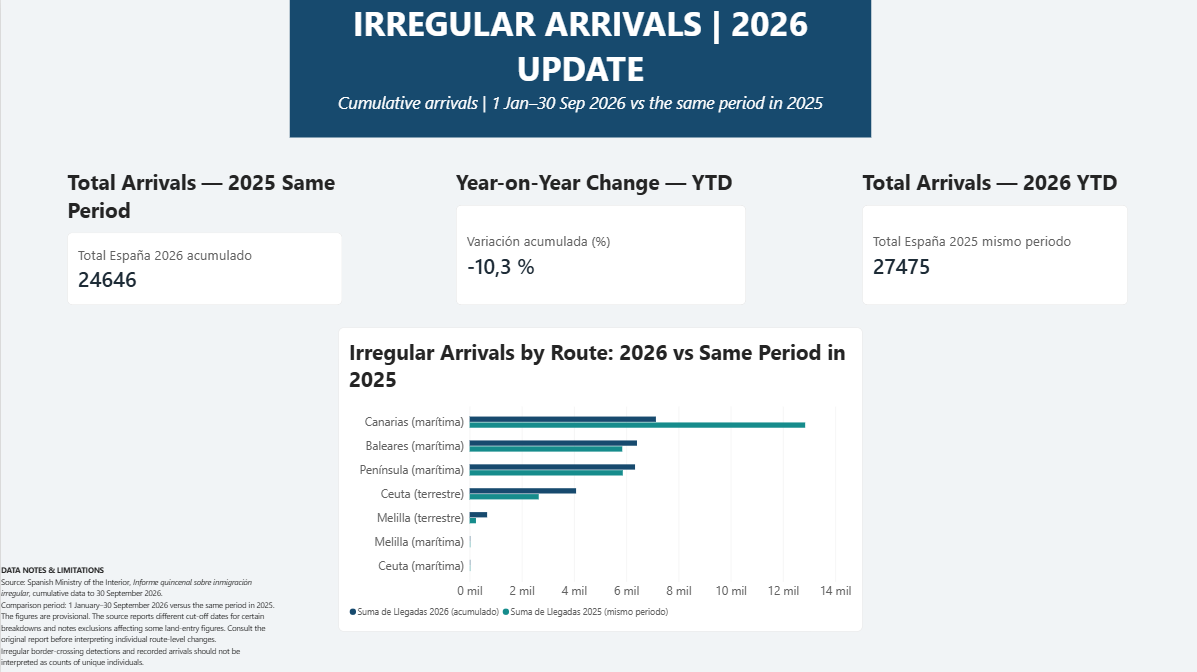

What the dashboard file says about the page in this screenshot:
{"tool":"powerbi","page":{"name":"2026 Update ","canvas":[1920,1080],"ordinal":1},"visuals":[{"type":"cardVisual","title":"Total Arrivals — 2026 YTD","fields":{"Data":["Interior_Irregular_2026.Total España 2025 mismo periodo"]},"box":[1378,268,425,220],"z":0},{"type":"cardVisual","title":"Total Arrivals — 2025 Same Period","fields":{"Data":["Interior_Irregular_2026.Total España 2026 acumulado"]},"box":[106,268,440,220],"z":1000},{"type":"cardVisual","title":"Year-on-Year Change — YTD","fields":{"Data":["Interior_Irregular_2026.Variación acumulada (%)"]},"box":[728,268,464,220],"z":2000},{"type":"clusteredBarChart","title":"Irregular Arrivals by Route: 2026 vs Same Period in 2025","fields":{"Category":["Interior_Irregular_2026.Ámbito / ruta"],"Y":["Sum(Interior_Irregular_2026.Llegadas 2026 (acumulado))","Sum(Interior_Irregular_2026.Llegadas 2025 (mismo periodo))"]},"box":[540,524,838,486],"z":3000},{"type":"textbox","box":[0,545,326,162],"z":4000},{"type":"textbox","box":[0,902,442,178],"z":5000},{"type":"textbox","title":"IRREGULAR ARRIVALS | 2026 UPDATE","box":[462.5,0,930,220],"z":6000}]}

Visuals, with their boxes in screenshot pixels (x1, y1, x2, y2), scaled from the page's 1920x1080 canvas onto the 1197x672 screenshot:
"Total Arrivals — 2026 YTD" cardVisual: crop(859, 167, 1124, 304)
"Total Arrivals — 2025 Same Period" cardVisual: crop(66, 167, 340, 304)
"Year-on-Year Change — YTD" cardVisual: crop(454, 167, 743, 304)
"Irregular Arrivals by Route: 2026 vs Same Period in 2025" clusteredBarChart: crop(337, 326, 859, 628)
textbox: crop(0, 339, 203, 440)
textbox: crop(0, 561, 276, 671)
"IRREGULAR ARRIVALS | 2026 UPDATE" textbox: crop(288, 0, 868, 137)
